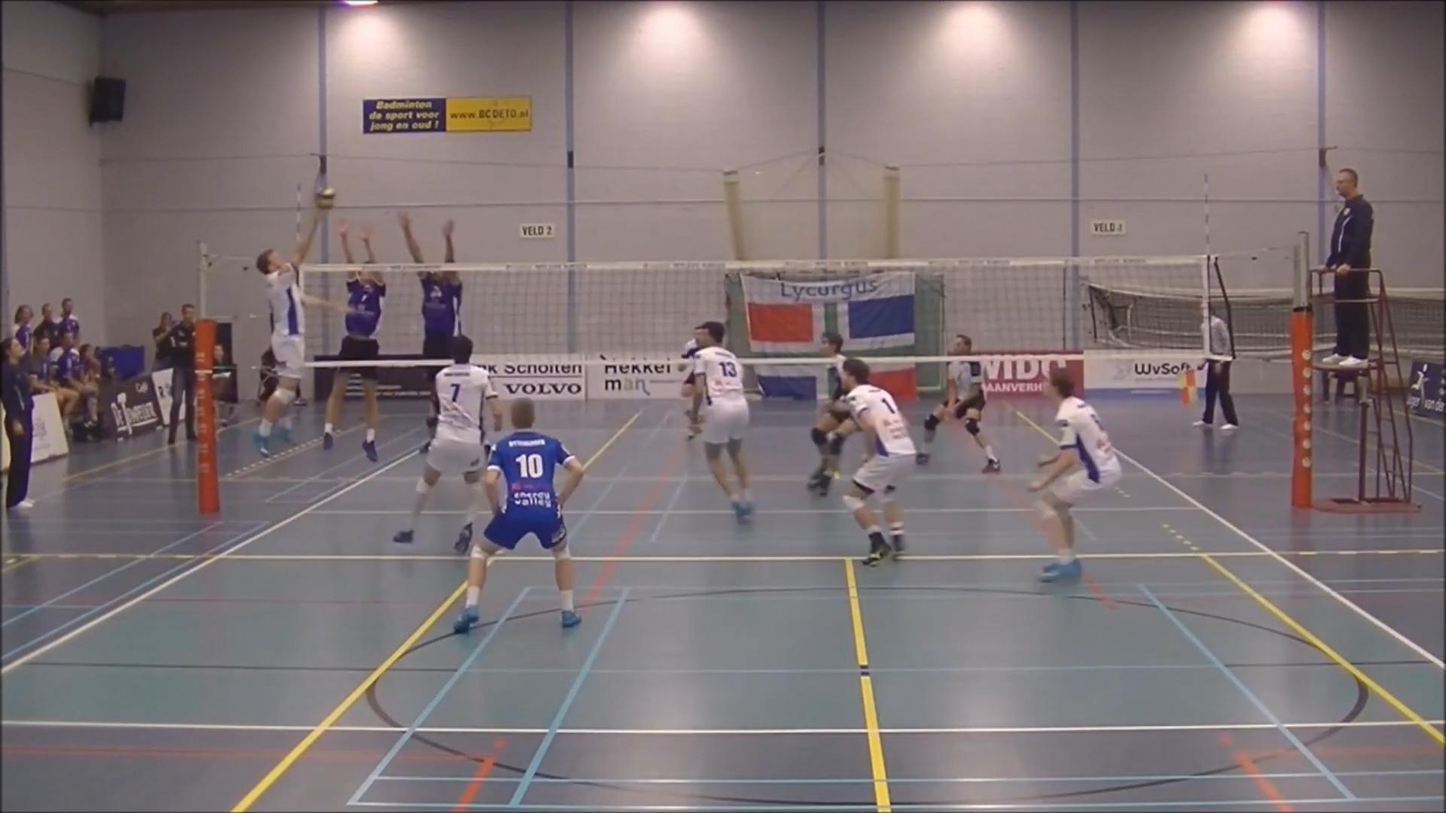Attack: (240, 207, 334, 456)
Block: (397, 212, 471, 470), (319, 212, 391, 477)
Player: (454, 398, 584, 633), (393, 336, 502, 552), (1030, 369, 1121, 580), (842, 358, 916, 565), (688, 321, 752, 521), (917, 358, 1000, 473), (808, 333, 856, 495), (681, 330, 699, 402)
ball: (315, 183, 340, 209)
